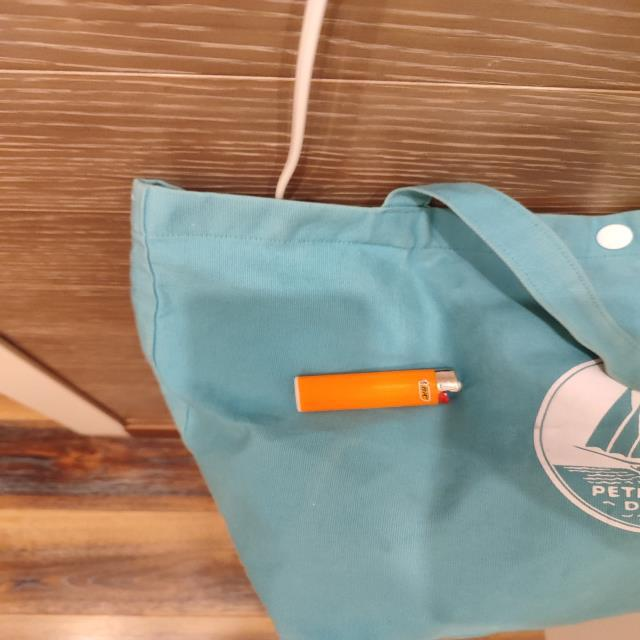lighter: (296, 369, 460, 412)
